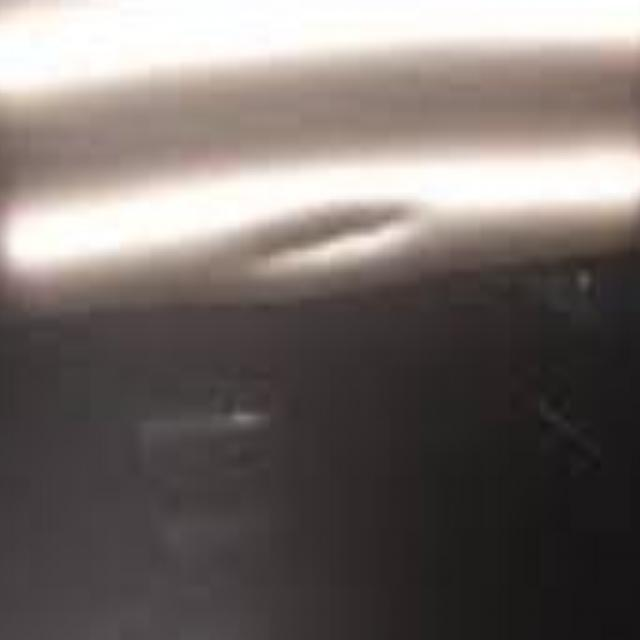dents: (227, 191, 445, 299)
